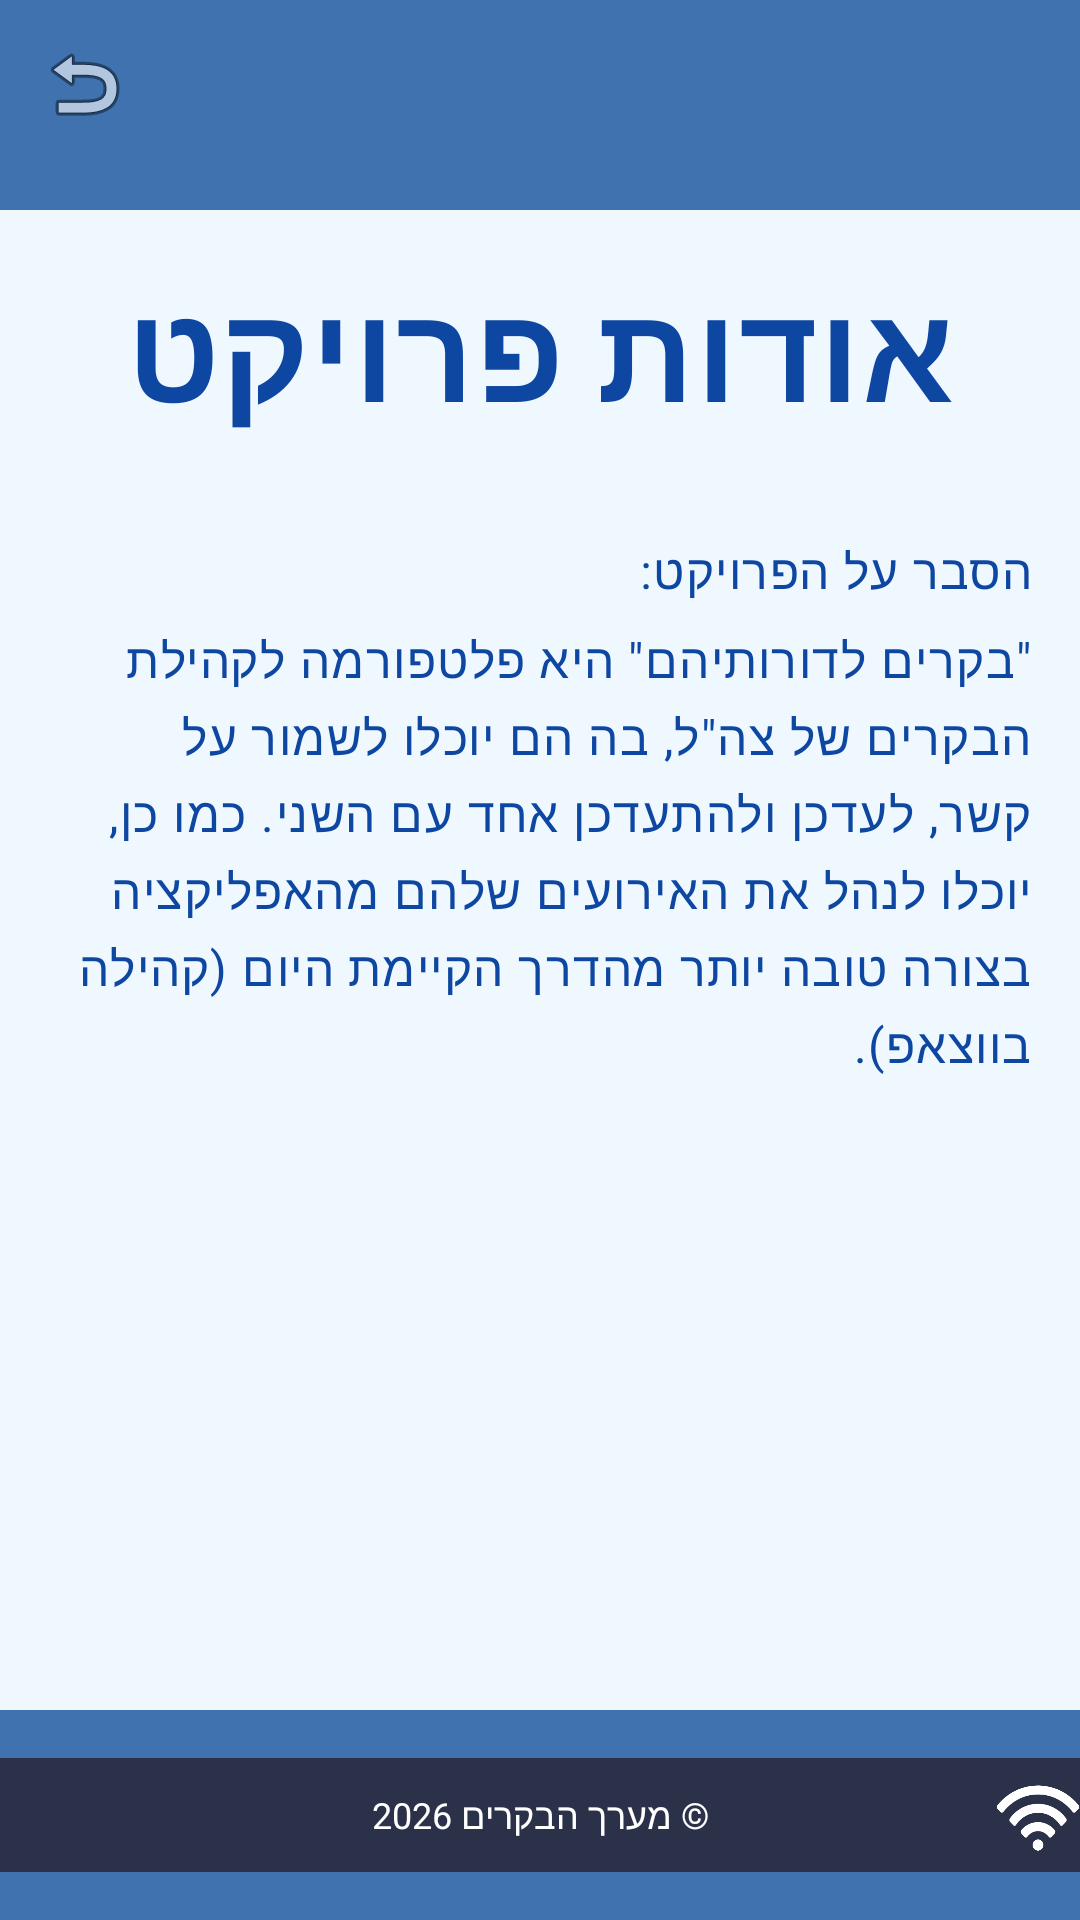

Where to tap for icons on this 1080 x 1920 app screen, as (x=x, y=y):
wifi: (x=1038, y=1818)
